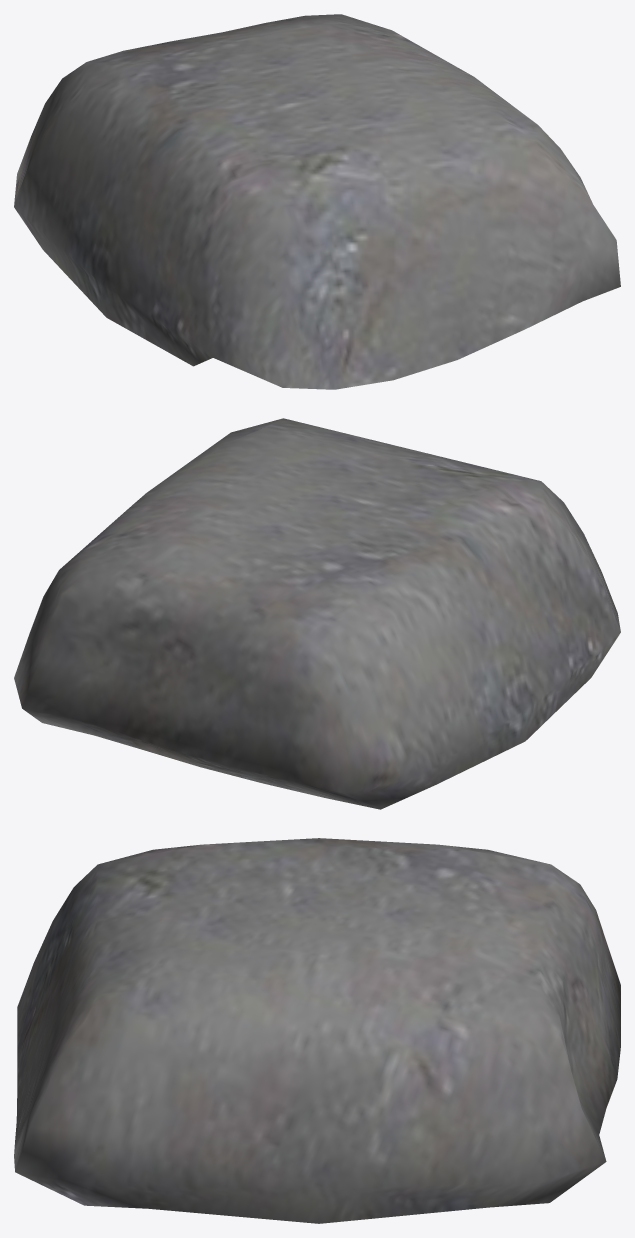
Rendered from SM_Sun_Pal_Stone_C.fbx.
3 renders of one model, top to bottom at view 1: azimuth 30°, elevation 25°; view 2: azimuth 150°, elevation 25°; view 3: azimuth 270°, elevation 25°, orthographic. The views are drawn at different scales.
Visible parts, largest first — view 1: SM_Sun_Pal_Stone_C; view 2: SM_Sun_Pal_Stone_C; view 3: SM_Sun_Pal_Stone_C.
Part boxes in pixels (x1,y1,x2,y2): SM_Sun_Pal_Stone_C: (14, 14, 620, 389); SM_Sun_Pal_Stone_C: (14, 418, 620, 809); SM_Sun_Pal_Stone_C: (14, 838, 620, 1223).
Bounding box in the file's own units: 67.86 × 28.86 × 75.56.
